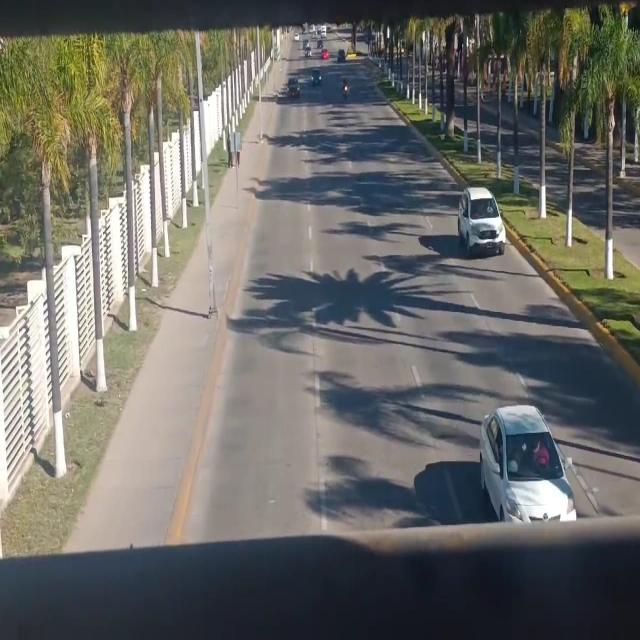Auto: (477, 404, 578, 526), (459, 188, 506, 258)
